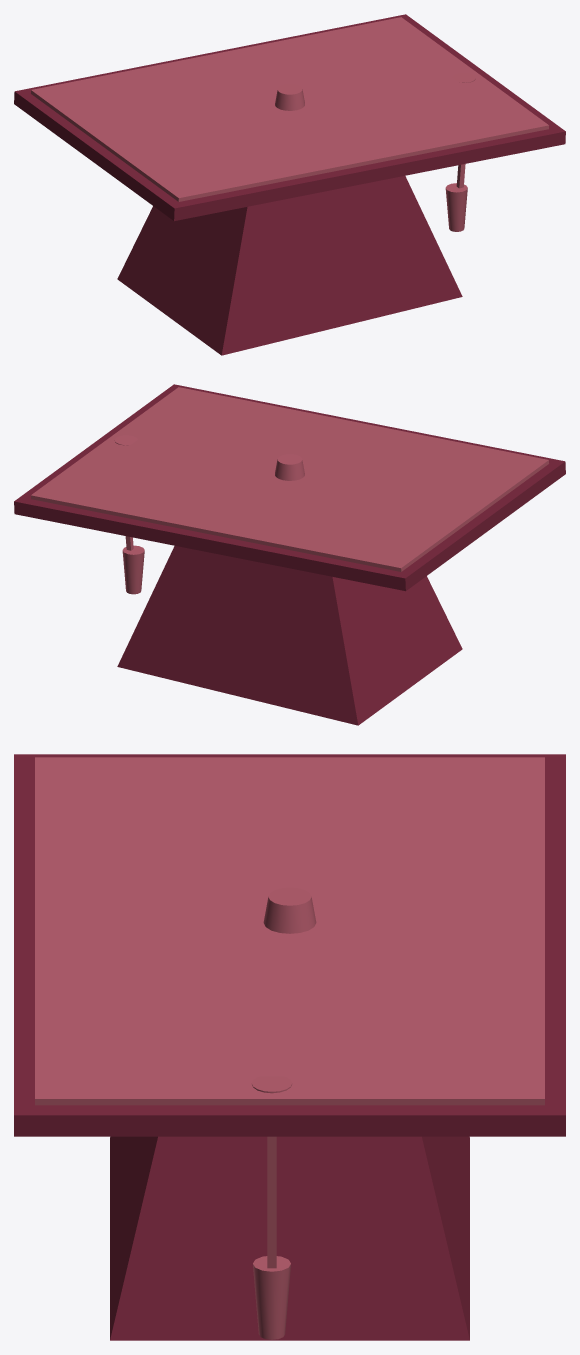
The model's file is toga_mortar.glb.
3 renders of one model, top to bottom at view 1: azimuth 30°, elevation 25°; view 2: azimuth 150°, elevation 25°; view 3: azimuth 270°, elevation 25°, orthographic. The views are drawn at different scales.
Parts seen in each view (by area): view 1: board-trim, tall-crown, board, tassel, button; view 2: board-trim, tall-crown, board, tassel, button; view 3: board-trim, tall-crown, board, tassel, button, tassel-cord.
Part boxes in pixels (x1,y1,x2,y2): board-trim: (31,17,548,201); tall-crown: (117,176,462,355); board: (14,14,565,221); tassel: (445,183,467,231); button: (275,84,304,110); board-trim: (31,387,548,571); tall-crown: (117,546,462,725); board: (14,384,565,591); tassel: (122,545,144,594); button: (275,454,304,480); board-trim: (35,757,544,1105); tall-crown: (110,1136,469,1340); board: (14,754,565,1136); tassel: (253,1256,290,1339); button: (263,887,316,933); tassel-cord: (267,1136,276,1268).
Size of the model in its own units: 6.5 by 3.15 by 4.6.
